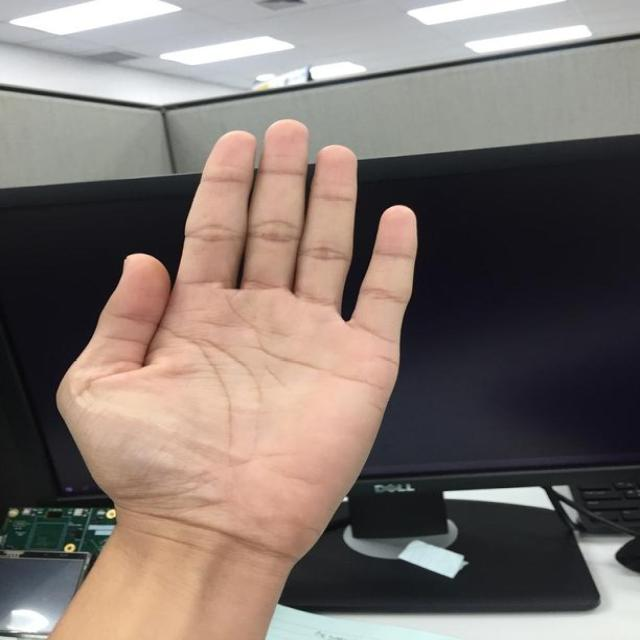Hand: (42, 115, 422, 640)
